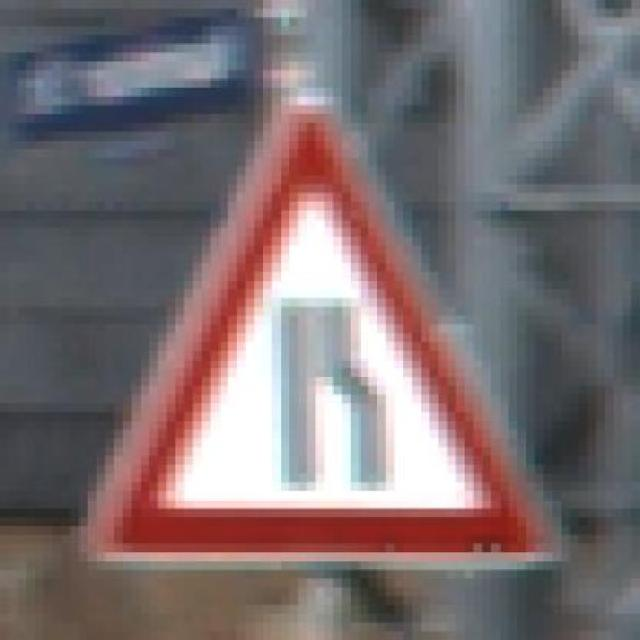-Road narrows on right: (61, 92, 578, 576)
